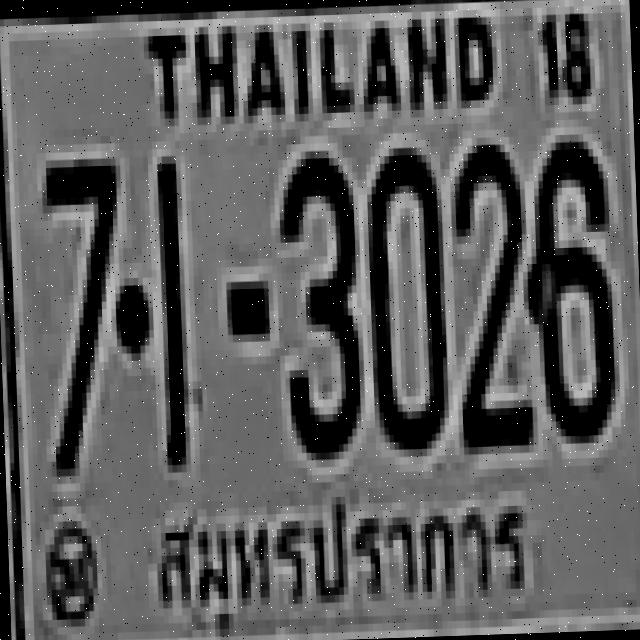0: (360, 143, 444, 446)
1: (154, 155, 188, 457)
2: (448, 140, 528, 443)
3: (275, 150, 359, 452)
6: (520, 133, 614, 437)
7: (41, 154, 126, 472), (43, 154, 120, 367)
SamutPrakan: (140, 486, 546, 630)
